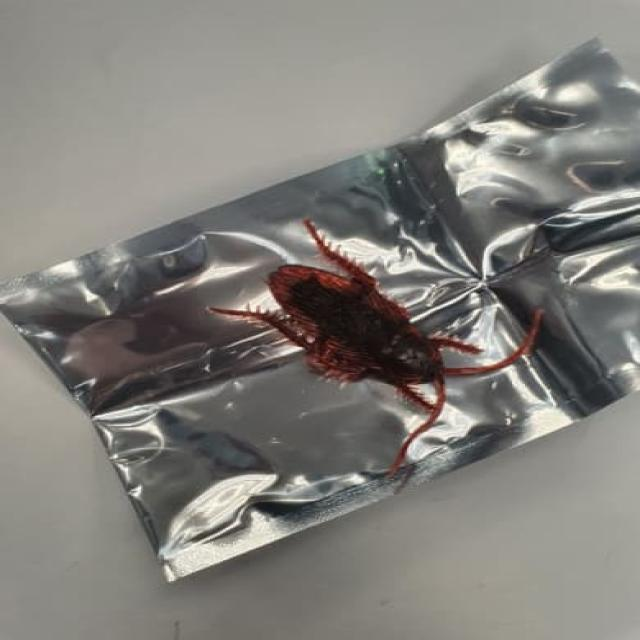Cockroach: (217, 223, 490, 428)
